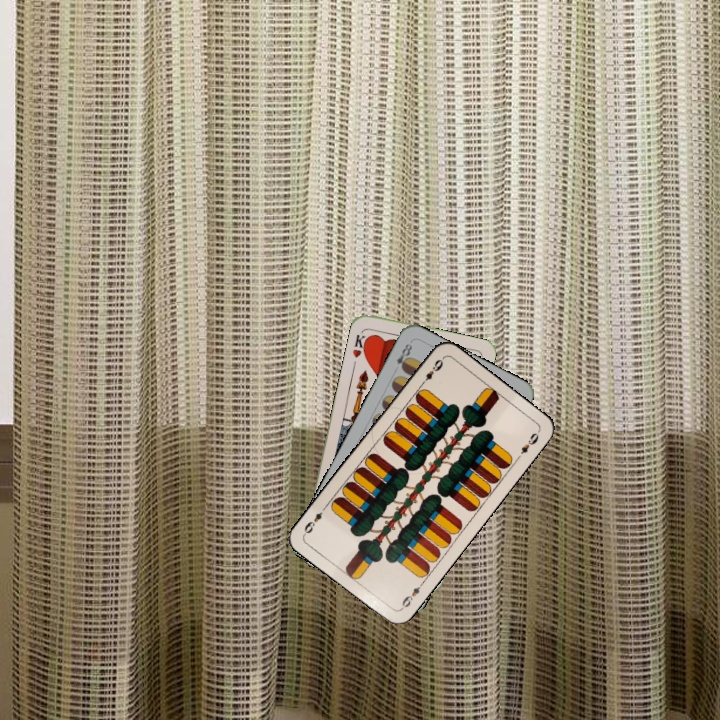E8: (392, 339, 415, 373)
E9: (416, 354, 446, 389), (397, 578, 427, 612)
HK: (348, 326, 372, 360)
